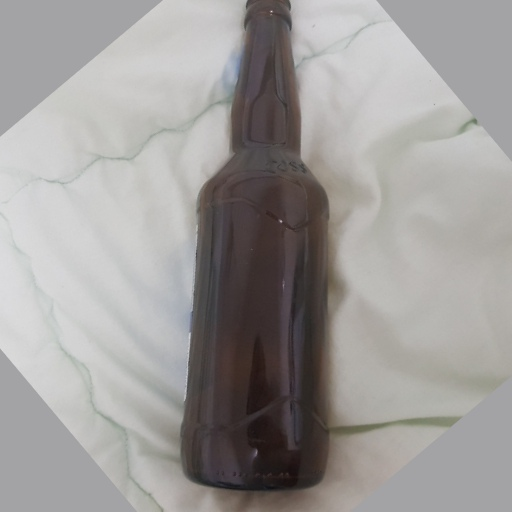Glass_1: (176, 1, 332, 489)
